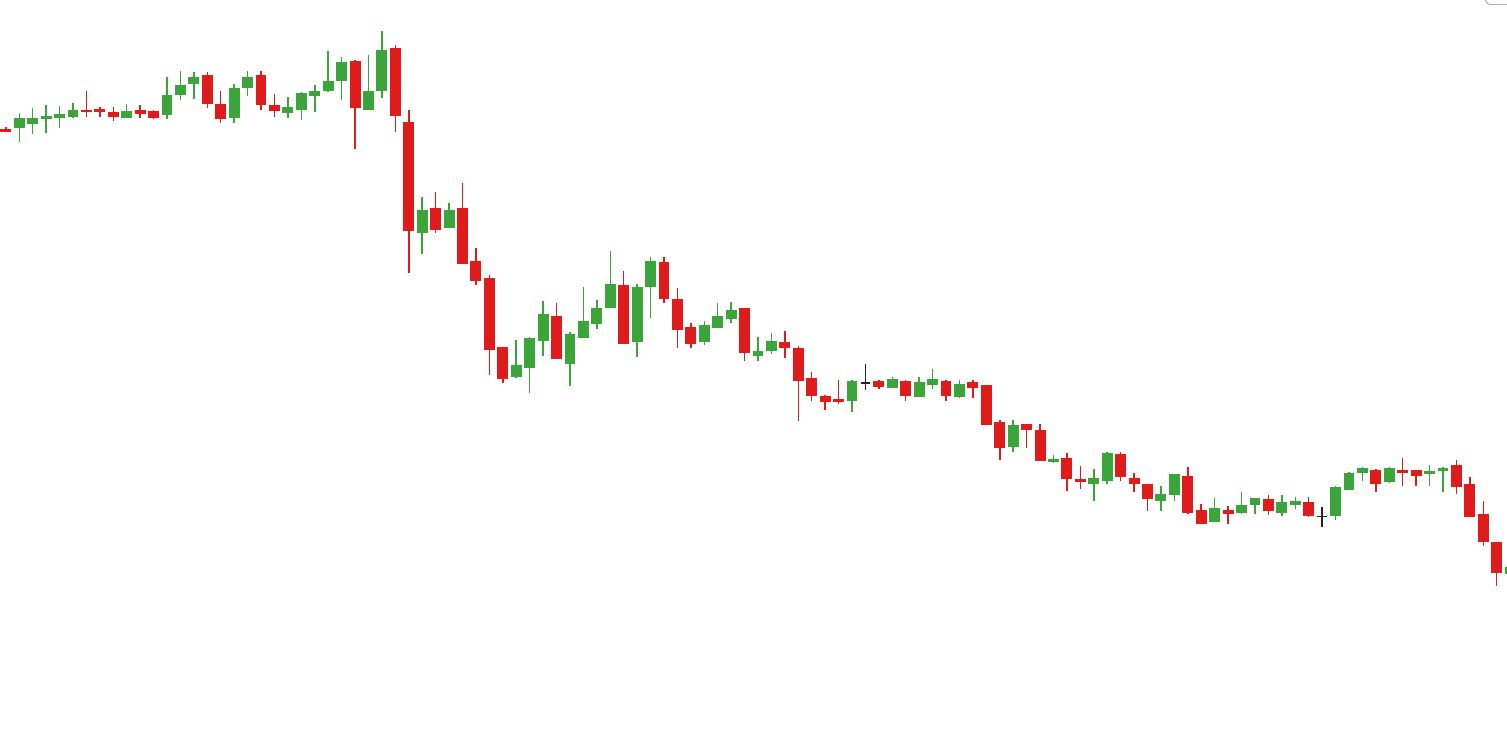sell: (321, 27, 404, 140)
